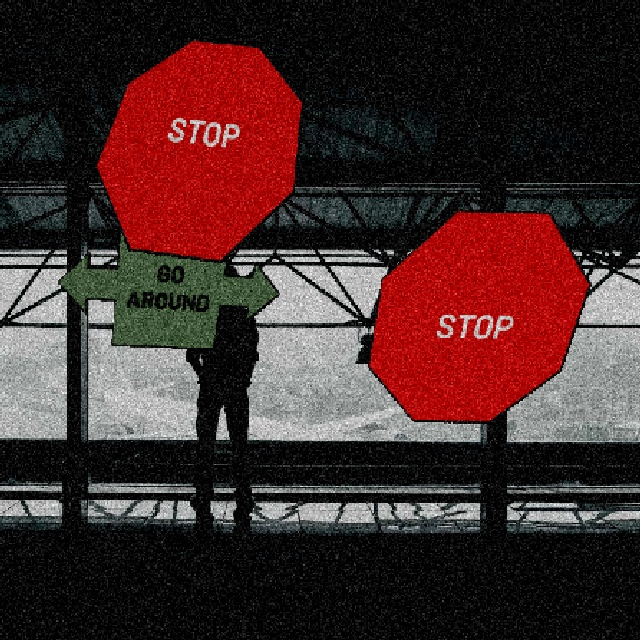GO_AROUND: (55, 218, 279, 349)
STOP: (366, 208, 590, 422), (93, 38, 302, 262)
